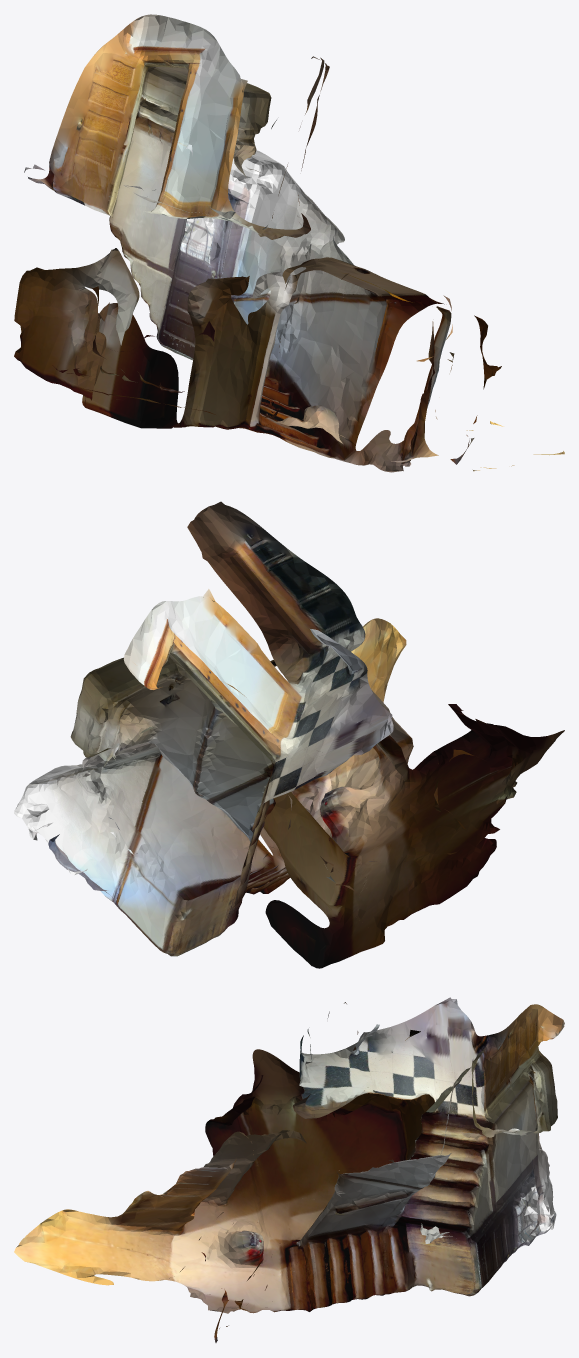
The model's file is stair_main_to_basement.glb.
3 views of the same model, one above another, from view 1: azimuth 30°, elevation 25°; view 2: azimuth 150°, elevation 25°; view 3: azimuth 270°, elevation 25° (orthographic). The views are drawn at different scales.
Parts seen in each view (by area): view 1: world_main_to_basement; view 2: world_main_to_basement; view 3: world_main_to_basement.
Boxes of the visible parts, x1,y1,x2,y2 form: world_main_to_basement: (14,14,564,472); world_main_to_basement: (14,501,564,968); world_main_to_basement: (14,997,564,1342).
Bounding box in the file's own units: 5.13 × 4.69 × 7.36.
2 materials, 2 textured.
